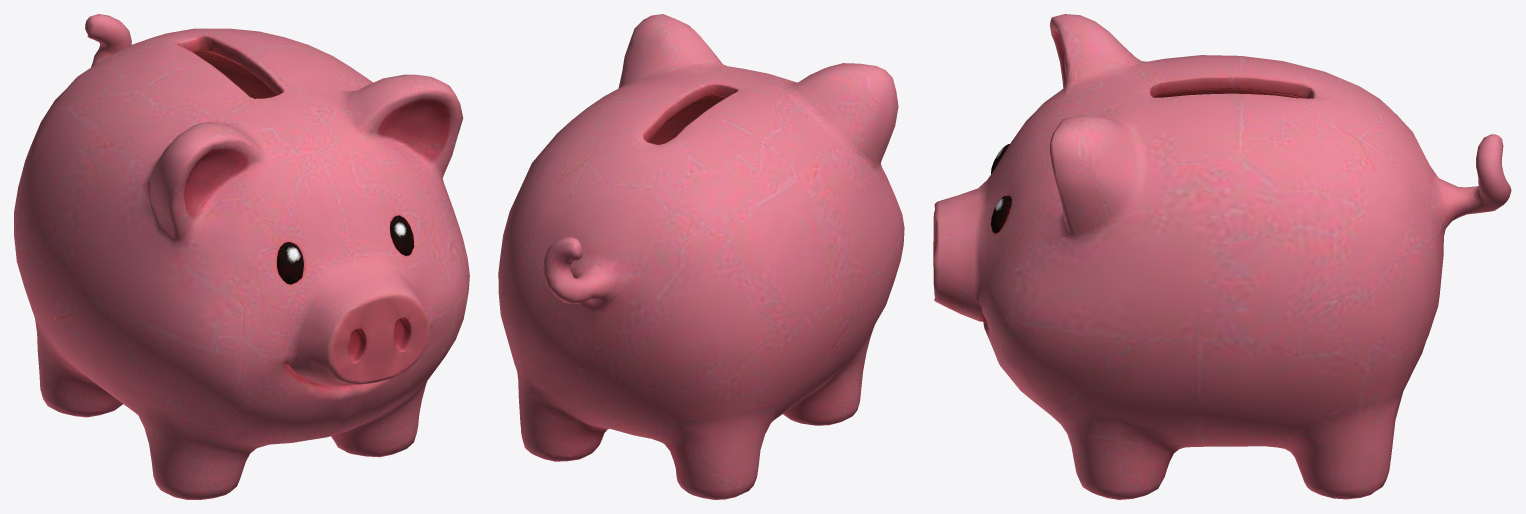
File: item05_pink_piggy.glb
3 renders of one model, left to right at view 1: azimuth 30°, elevation 25°; view 2: azimuth 150°, elevation 25°; view 3: azimuth 270°, elevation 25°, orthographic. The views are drawn at different scales.
Parts seen in each view (by area): view 1: geometry_0; view 2: geometry_0; view 3: geometry_0.
Part boxes in pixels (left/top/right/bottom): geometry_0: left=14, top=14, right=469, bottom=499; geometry_0: left=498, top=14, right=904, bottom=499; geometry_0: left=933, top=14, right=1511, bottom=499.
Bounding box in the file's own units: 0.6567 × 0.6787 × 0.9556.
1 material, 1 textured.
